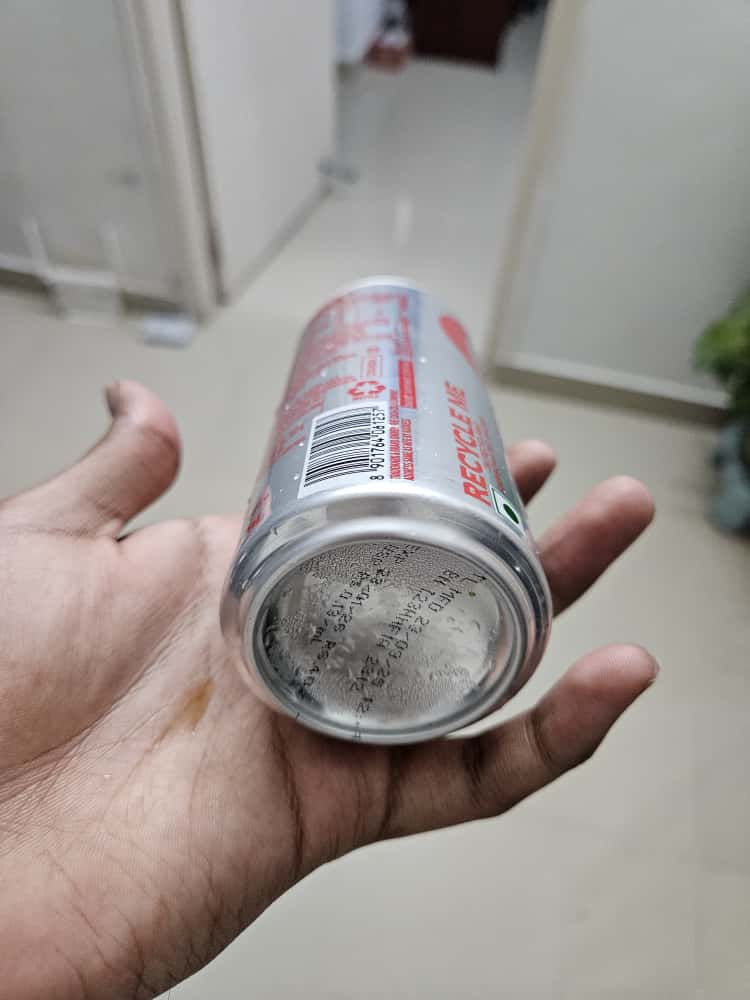dry: (202, 238, 581, 749)
